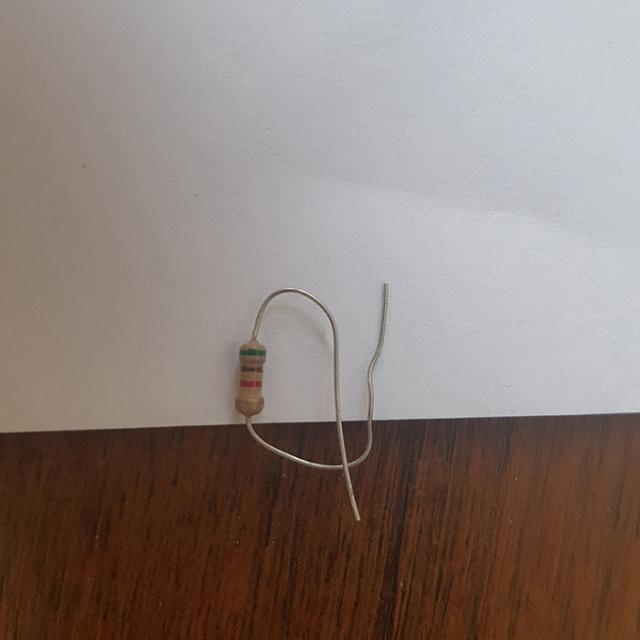brown: (240, 366, 261, 371)
gold: (236, 399, 262, 405)
green: (240, 350, 264, 356)
red: (238, 380, 263, 387)
resistor: (232, 338, 271, 422)
